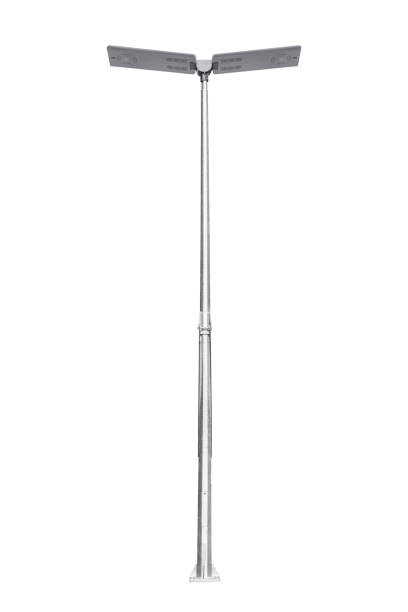light_pole: (194, 77, 218, 575)
